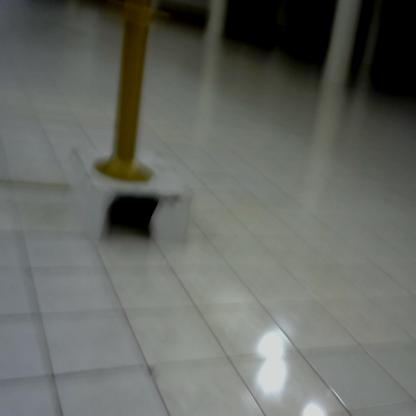pole: (87, 1, 180, 202)
